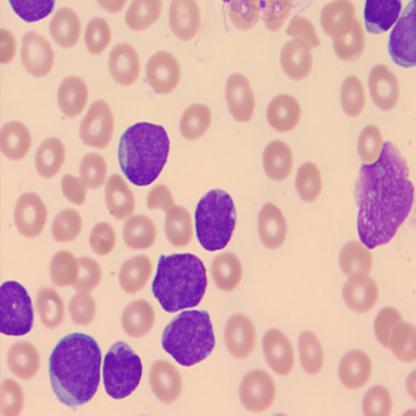Blast: (47, 330, 103, 407), (149, 251, 209, 315), (116, 119, 170, 190), (159, 309, 217, 369), (192, 186, 238, 254), (100, 338, 143, 401)
